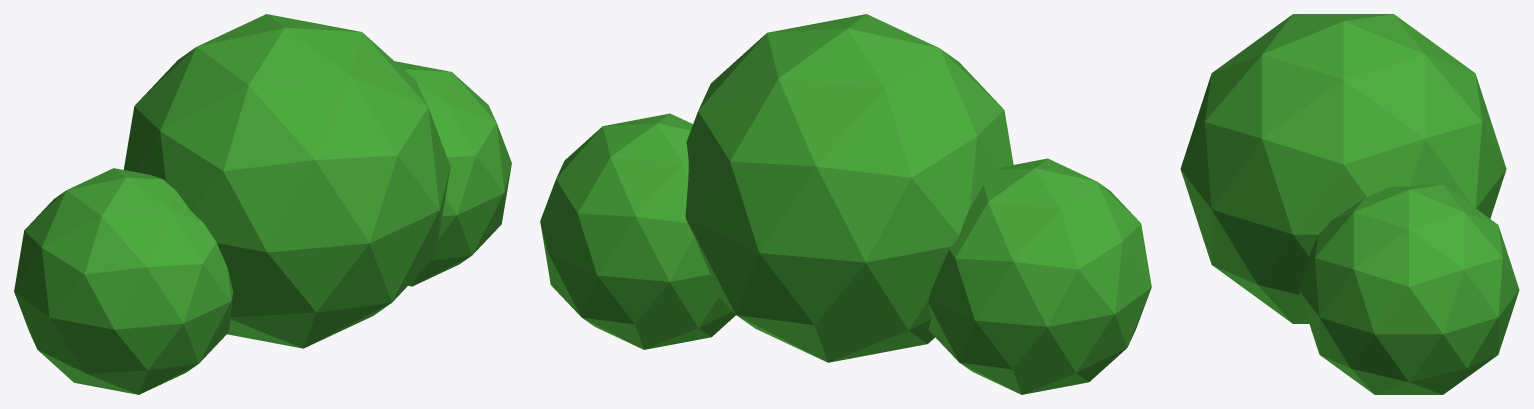
File: Bush1.fbx
The picture shows the model from 3 angles, left to right: view 1: azimuth 30°, elevation 25°; view 2: azimuth 150°, elevation 25°; view 3: azimuth 270°, elevation 25°; orthographic projection. The views are drawn at different scales.
Parts seen in each view (by area): view 1: Bush1; view 2: Bush1; view 3: Bush1.
Boxes of the visible parts, x1,y1,x2,y2 form: Bush1: (14,14,511,394); Bush1: (540,14,1151,394); Bush1: (1180,14,1519,394).
Size of the model in its own units: 693 by 405 by 417.
